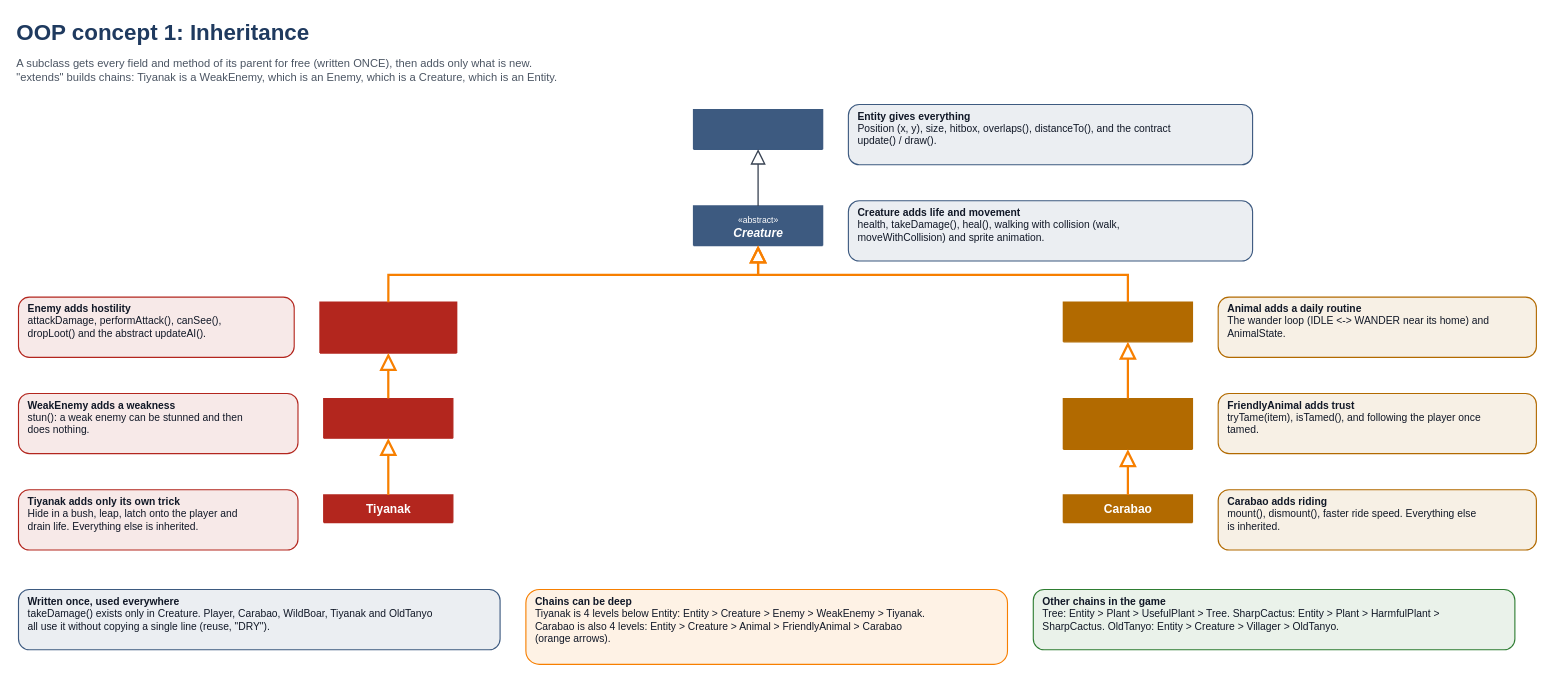
This 1563x679 diagram has some shape labels left out. The shapes that lost their labels are listed below. From the top down, each one's centre as x and y in pixels, then its label:
At (757,129): "«abstract» Entity".
At (388,327): "«abstract» Enemy implements DamageSource".
At (1127,321): "«abstract» Animal".
At (388,417): "«abstract» WeakEnemy".
At (1127,423): "«abstract» FriendlyAnimal implements Interactable".
